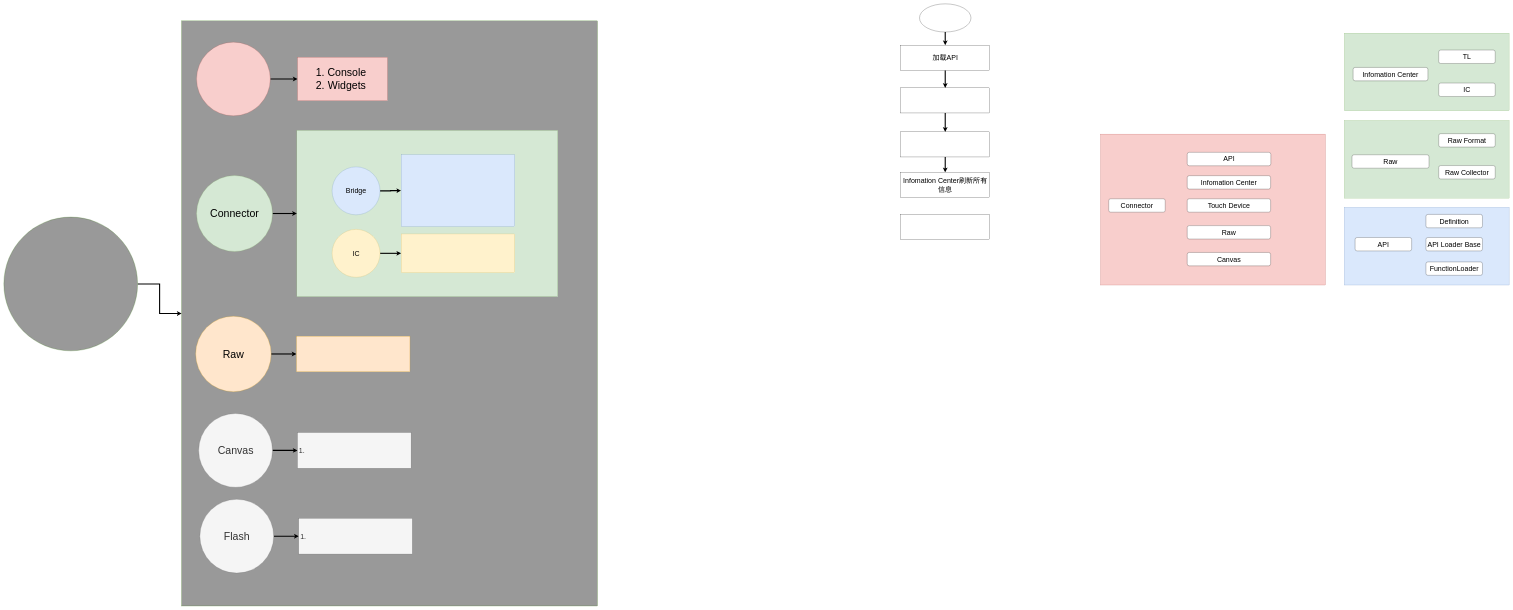
This 1513x610 diagram has some shape labels left out. Each missing label, with the box of its shape:
ConnectionLayer: (4, 217, 138, 351)
FW CFG ISP: (401, 234, 515, 273)
Raw Format Raw Collector: (296, 336, 410, 372)
TouchDevice实例化: (901, 214, 990, 239)
TouchLink TouchPad HID WIFI ADB BlueTooth ...: (401, 155, 515, 226)
UI Functions: (196, 42, 270, 116)
开始: (919, 4, 971, 32)
执行IC连接动作: (901, 132, 990, 157)
执行TL连接动作: (901, 88, 990, 113)
